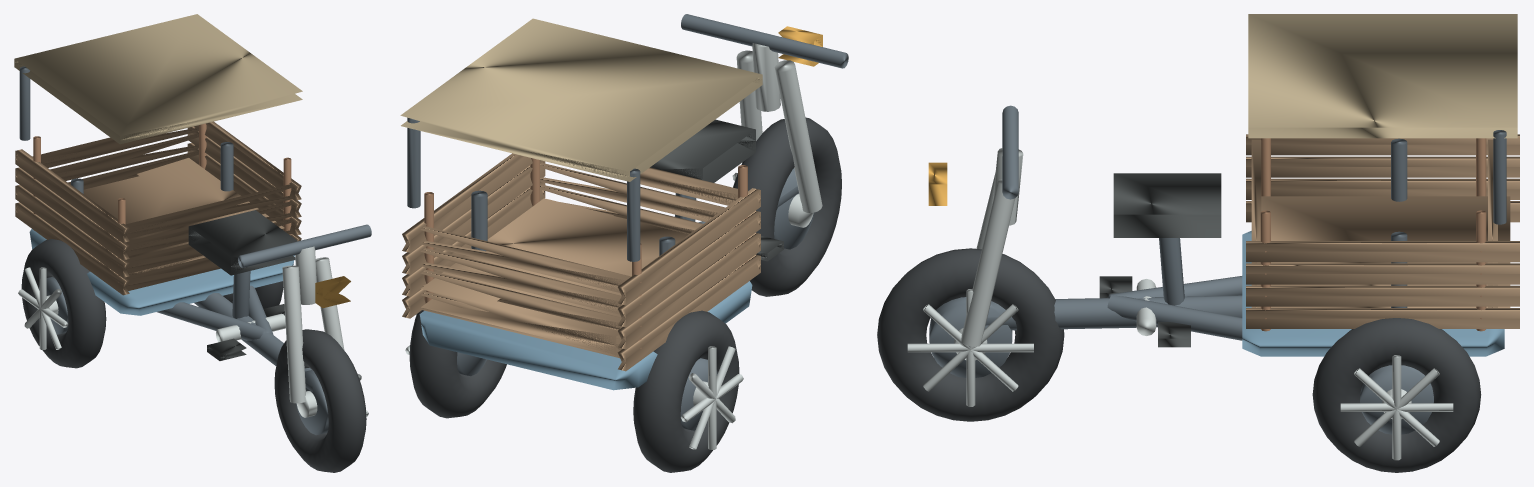
The model's file is atlas_t3.glb.
3 views of the same model, side by side, from view 1: azimuth 30°, elevation 25°; view 2: azimuth 150°, elevation 25°; view 3: azimuth 270°, elevation 25° (orthographic). The views are drawn at different scales.
Visible parts, largest first — view 1: lona_carga, dianteira_pneu, fundo_caixa, traseira_-1_pneu, plataforma, assento, ripa_frente_-0.22_3, forquilha_esq, ripa_lateral_-1_3, ripa_frente_-1.23_2, ripa_lateral_-1_1, ripa_lateral_-1_2 (+26 smaller); view 2: lona_carga, fundo_caixa, traseira_-1_pneu, dianteira_pneu, plataforma, traseira_1_pneu, assento, ripa_frente_-1.23_3, ripa_frente_-1.23_2, ripa_lateral_-1_3, forquilha_esq, ripa_lateral_-1_2 (+22 smaller); view 3: lona_carga, dianteira_pneu, traseira_1_pneu, fundo_caixa, assento, ripa_lateral_1_3, ripa_lateral_1_2, ripa_lateral_1_1, ripa_lateral_1_0, ripa_lateral_-1_2, plataforma, ripa_lateral_-1_1 (+16 smaller).
Boxes of the visible parts, bbox=[...] form: lona_carga: bbox=[14, 14, 302, 144]; dianteira_pneu: bbox=[274, 329, 366, 472]; fundo_caixa: bbox=[83, 158, 284, 275]; traseira_-1_pneu: bbox=[21, 239, 106, 368]; plataforma: bbox=[29, 229, 294, 315]; assento: bbox=[188, 210, 297, 275]; ripa_frente_-0.22_3: bbox=[125, 184, 293, 238]; forquilha_esq: bbox=[282, 265, 305, 403]; ripa_lateral_-1_3: bbox=[15, 149, 129, 242]; ripa_frente_-1.23_2: bbox=[50, 133, 198, 180]; ripa_lateral_-1_1: bbox=[15, 185, 129, 277]; ripa_lateral_-1_2: bbox=[15, 167, 129, 260]; lona_carga: bbox=[400, 18, 762, 181]; fundo_caixa: bbox=[421, 198, 688, 354]; traseira_-1_pneu: bbox=[633, 310, 739, 472]; dianteira_pneu: bbox=[733, 117, 841, 296]; plataforma: bbox=[419, 281, 752, 390]; traseira_1_pneu: bbox=[409, 310, 506, 418]; assento: bbox=[650, 119, 755, 182]; ripa_frente_-1.23_3: bbox=[420, 226, 631, 292]; ripa_frente_-1.23_2: bbox=[420, 248, 622, 314]; ripa_lateral_-1_3: bbox=[618, 188, 760, 305]; forquilha_esq: bbox=[774, 60, 822, 212]; ripa_lateral_-1_2: bbox=[617, 210, 760, 327]; lona_carga: bbox=[1248, 14, 1517, 138]; dianteira_pneu: bbox=[877, 248, 1064, 421]; traseira_1_pneu: bbox=[1312, 318, 1481, 472]; fundo_caixa: bbox=[1261, 196, 1510, 307]; assento: bbox=[1113, 173, 1221, 237]; ripa_lateral_1_3: bbox=[1246, 241, 1519, 262]; ripa_lateral_1_2: bbox=[1246, 263, 1519, 284]; ripa_lateral_1_1: bbox=[1246, 285, 1519, 306]; ripa_lateral_1_0: bbox=[1246, 308, 1519, 328]; ripa_lateral_-1_2: bbox=[1246, 156, 1519, 177]; plataforma: bbox=[1242, 231, 1504, 356]; ripa_lateral_-1_1: bbox=[1246, 178, 1519, 199].
Bounding box in the file's own units: 1.42 × 1.64 × 2.75.
